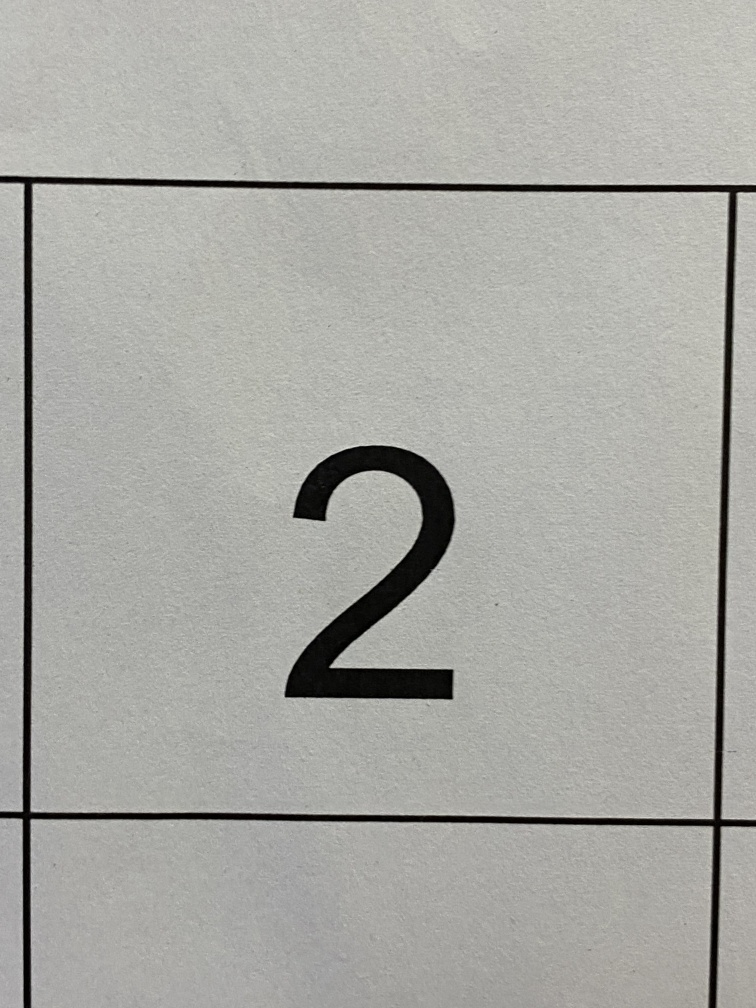two: (249, 381, 508, 770)
